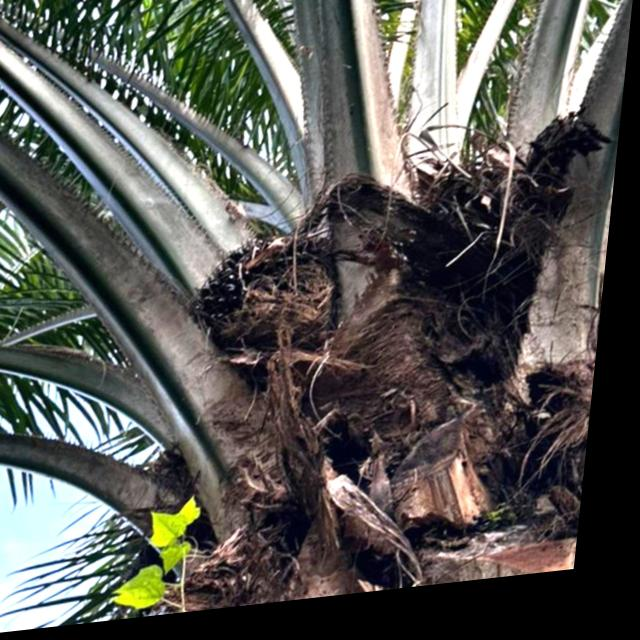unripe: (167, 226, 368, 420)
